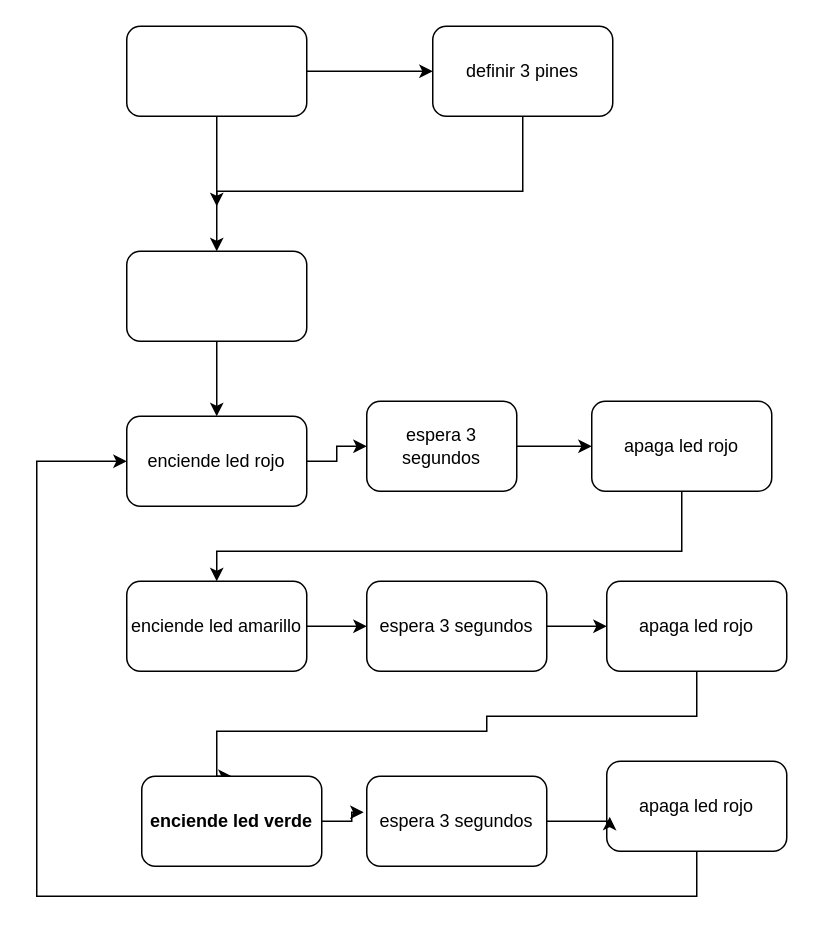
Image size: 813x935. Some labels were removed from this diagram. The centre of each missing label's shape, as x and y in pixels:
"inicio" goes at point (216, 70).
"loop" goes at point (216, 295).
